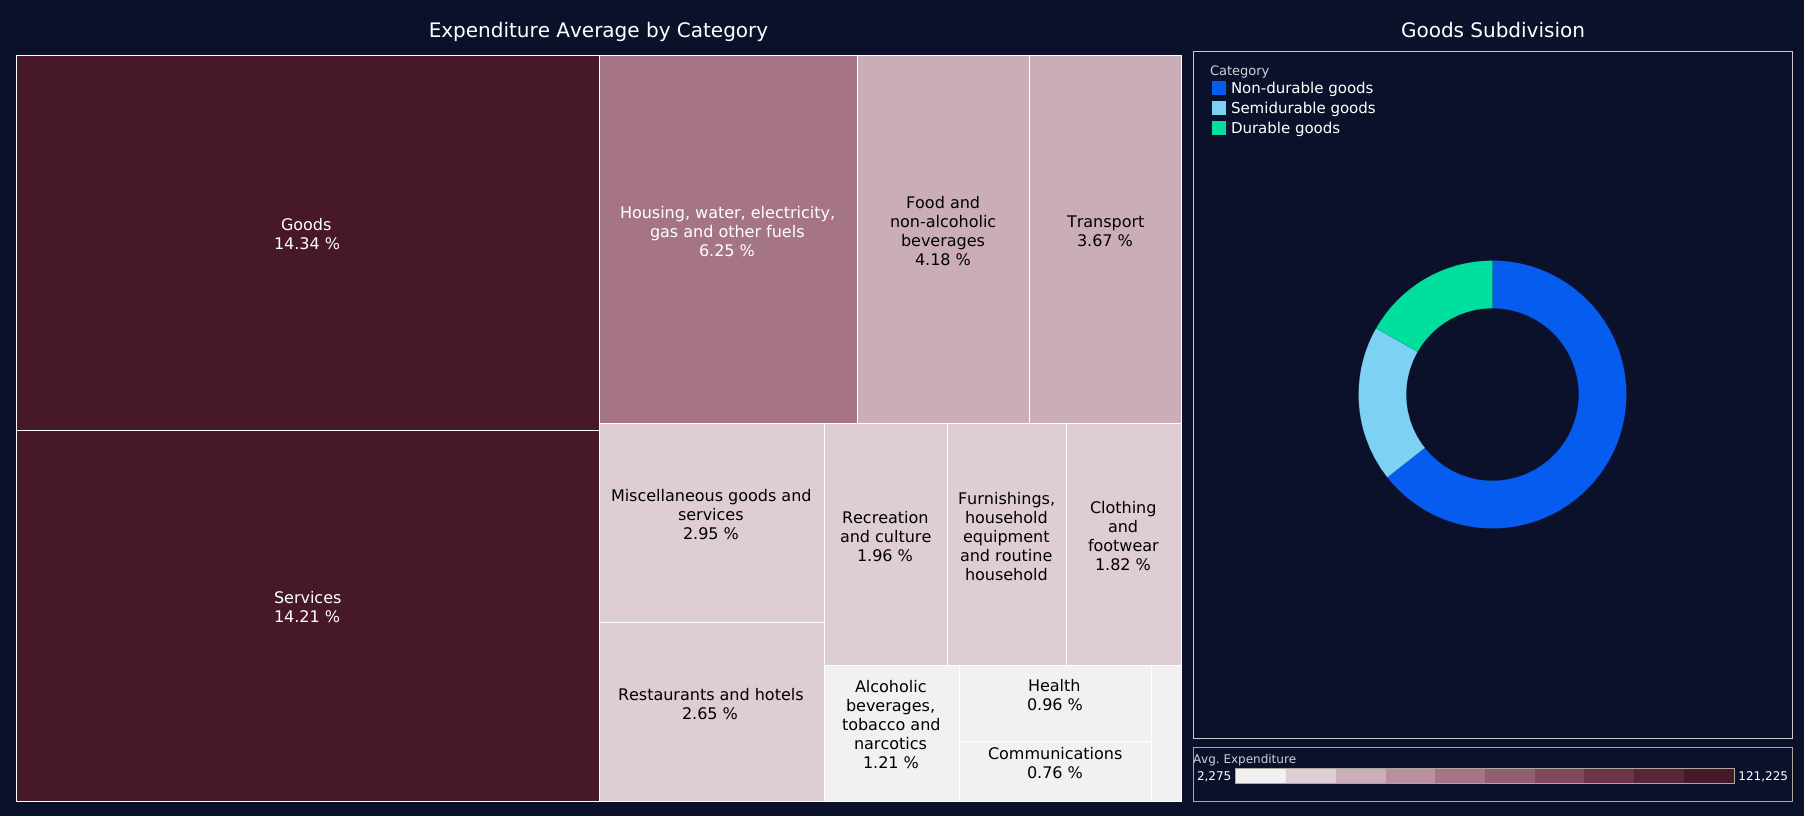

This screenshot's page, from the dashboard's own definition file:
{"tool":"tableau","page":{"name":"Expenditures Dashboard","canvas":[1000,1000],"units":"permille","ordinal":0},"visuals":[{"type":"worksheet","title":"Expenditure Average by Category","mark":"Square","box":[4.9,8.5,823.4,983.1]},{"type":"worksheet","title":"Goods Pied","mark":"Pie","box":[828.3,8.5,166.8,826.3]},{"type":"legend","title":"Goods Pied","param":"[federated.1p6mvjl1e93m6s1fl62v70lic5nn].[none:Time  :nk]","box":[828.3,834.8,166.8,83.7]},{"type":"legend","title":"Expenditure Average by Category","param":"[federated.1p6mvjl1e93m6s1fl62v70lic5nn].[avg:Pivot Field Values:qk]","box":[828.3,918.4,166.8,73.1]}]}

Visuals, with their boxes on the dashboard's canvas, which has no fixed pixel size, in thousandths of its width and height (x1, y1, x2, y2). These are canvas units, not pixel positions in the 1804x816 screenshot, which may show the page scaled, cropped or inside an application window:
"Expenditure Average by Category" worksheet (Square marks): (left=5, top=8, right=828, bottom=992)
"Goods Pied" worksheet (Pie marks): (left=828, top=8, right=995, bottom=835)
"Goods Pied" legend: (left=828, top=835, right=995, bottom=918)
"Expenditure Average by Category" legend: (left=828, top=918, right=995, bottom=992)
